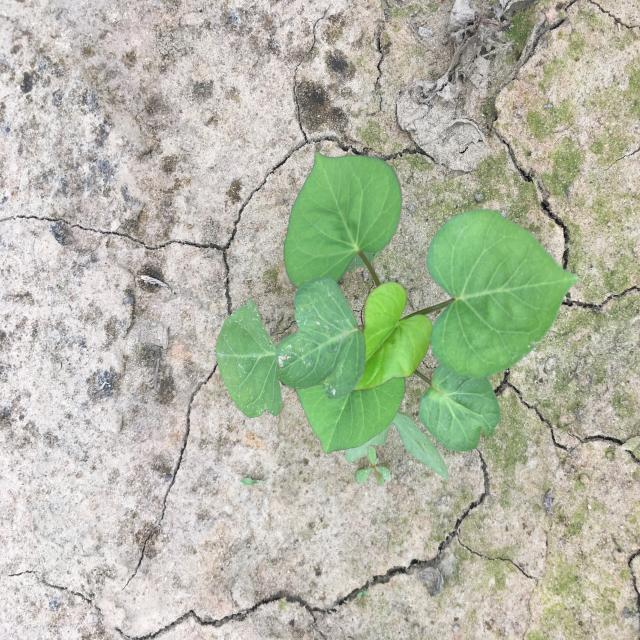Carpetweed: (355, 446, 391, 486)
MorningGlory: (214, 150, 578, 482)
